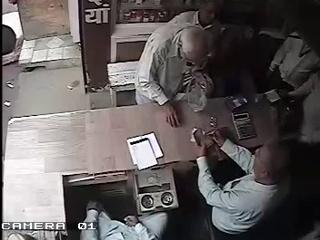Normal: (192, 125, 294, 240), (134, 0, 224, 128), (80, 200, 166, 240)
